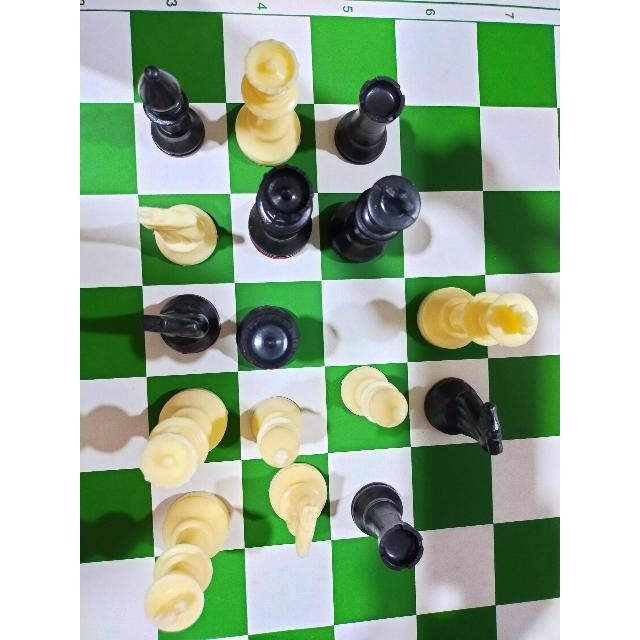black-bishop: (133, 60, 213, 160)
black-king: (326, 172, 423, 264)
black-knight: (422, 367, 508, 456), (139, 297, 222, 355)
black-queen: (245, 162, 318, 262), (238, 302, 302, 371)
black-rook: (347, 471, 427, 569), (329, 73, 408, 162)
white-bishop: (338, 364, 410, 430), (248, 400, 310, 466)
white-king: (147, 488, 234, 632), (415, 284, 543, 353)
white-knight: (130, 197, 228, 270), (267, 468, 326, 560)
white-queen: (126, 381, 236, 486), (231, 33, 306, 163)
